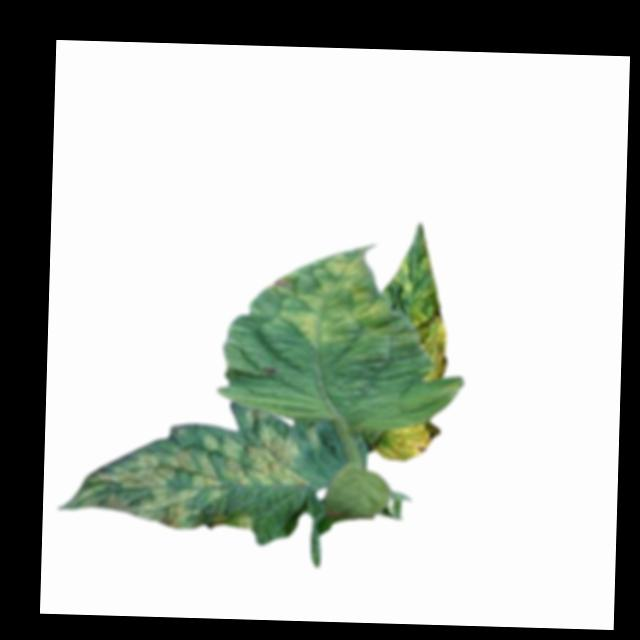Leaf_Mold: (56, 405, 301, 534), (271, 246, 391, 347), (410, 306, 451, 384), (373, 417, 440, 461)
